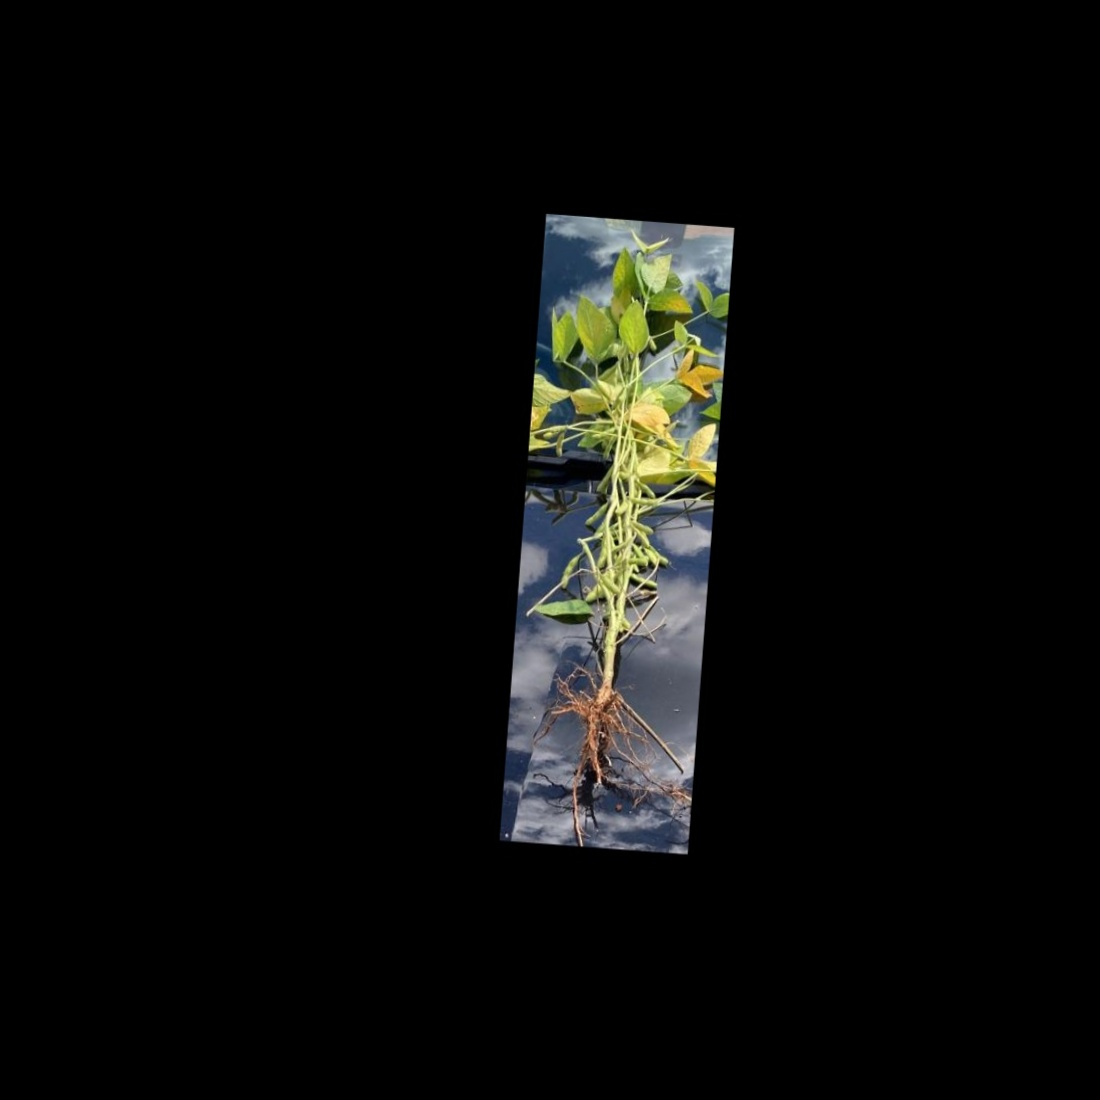pod: (558, 548, 582, 595), (583, 497, 609, 530), (592, 464, 613, 497), (627, 571, 659, 587), (634, 478, 658, 499), (623, 554, 649, 568), (628, 495, 658, 507)
soy: (509, 224, 722, 810)
